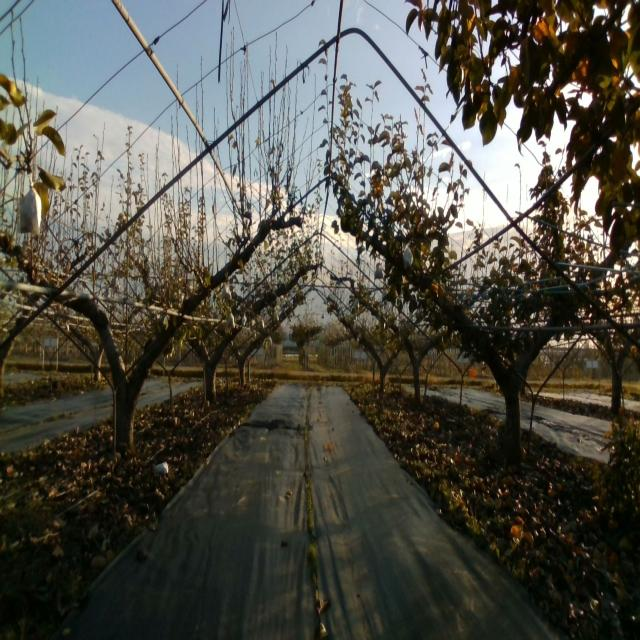pearbags: (16, 180, 42, 236)
